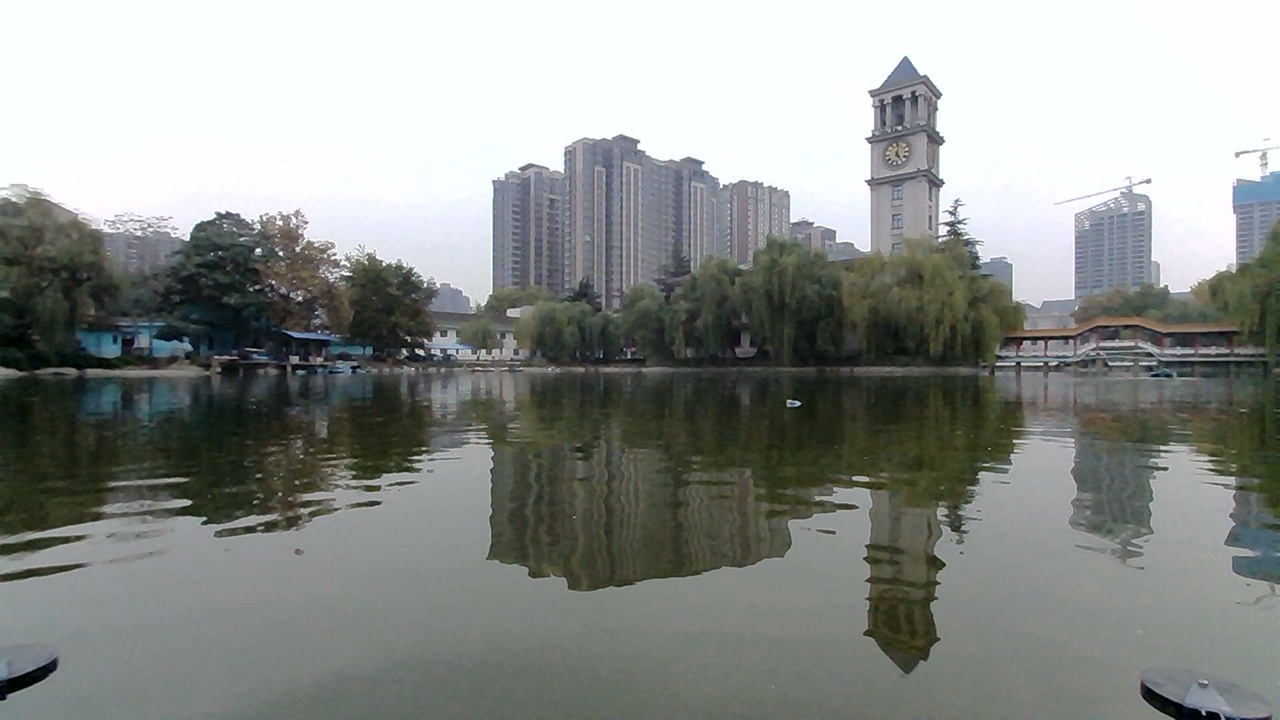bottle: (785, 393, 824, 423)
